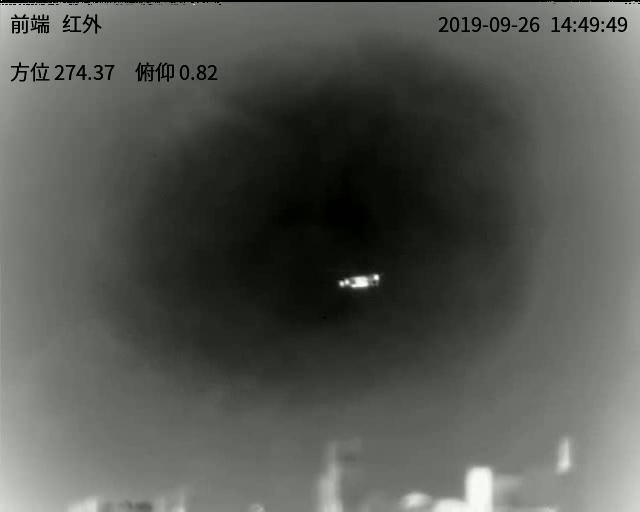DRONE: (338, 273, 381, 290)
